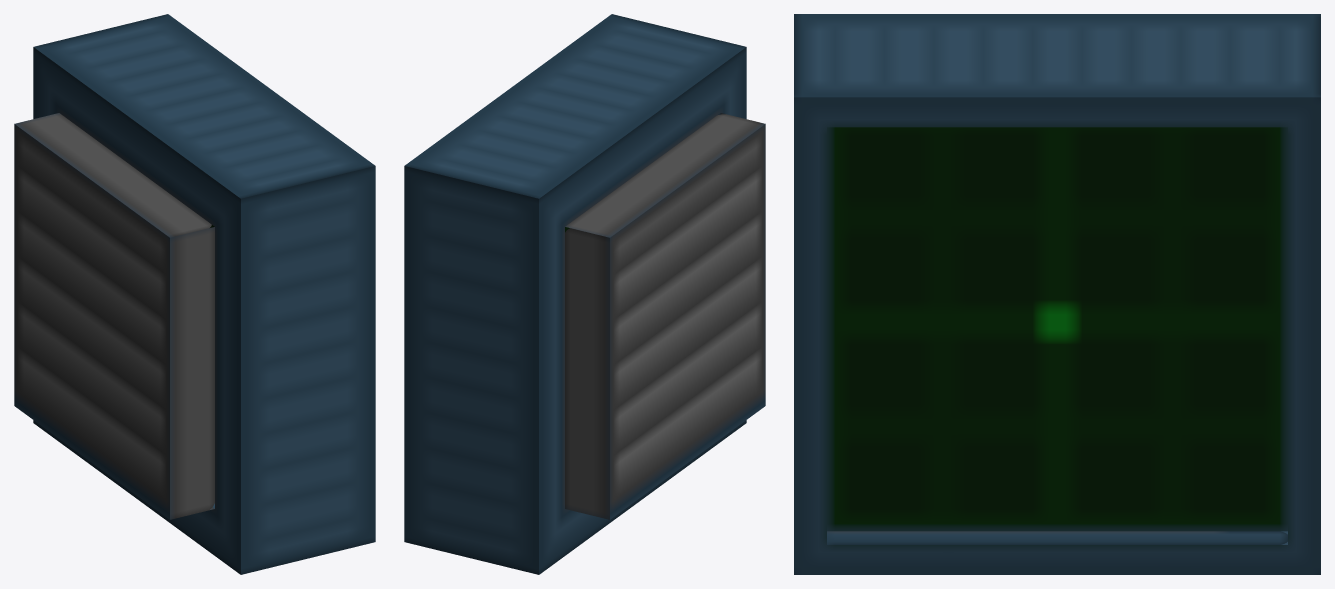
The model's file is radar_screen.obj.
3 renders of one model, left to right at view 1: azimuth 30°, elevation 25°; view 2: azimuth 150°, elevation 25°; view 3: azimuth 270°, elevation 25°, orthographic. The views are drawn at different scales.
Parts seen in each view (by area): view 1: Plane; view 2: Plane; view 3: Plane.
Boxes of the visible parts, left/top/right/bottom form: Plane: left=14, top=14, right=375, bottom=574; Plane: left=404, top=14, right=765, bottom=574; Plane: left=794, top=14, right=1320, bottom=574.
Bounding box in the file's own units: 1 × 2 × 2.
